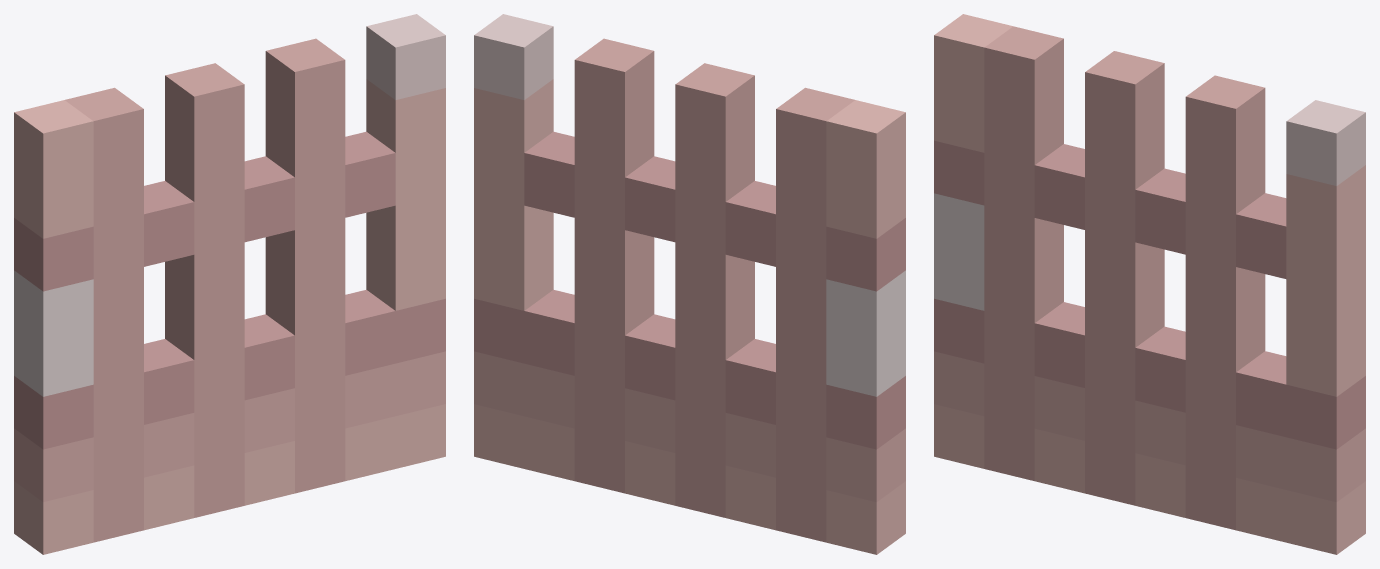
The model's file is Cherry Door.glb.
The picture shows the model from 3 angles, left to right: view 1: azimuth 30°, elevation 25°; view 2: azimuth 150°, elevation 25°; view 3: azimuth 330°, elevation 25°; orthographic projection.
Parts seen in each view (by area): view 1: generated(Clone); view 2: generated(Clone); view 3: generated(Clone).
Part boxes in pixels (x1,y1,x2,y2): generated(Clone): (14, 14, 445, 554); generated(Clone): (474, 14, 905, 554); generated(Clone): (934, 14, 1365, 554).
Size of the model in its own units: 8 by 8 by 1.
Materials: 1 (1 with a texture image).
